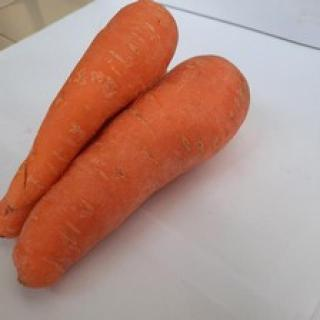carrot: (14, 54, 247, 286), (0, 0, 182, 237)
